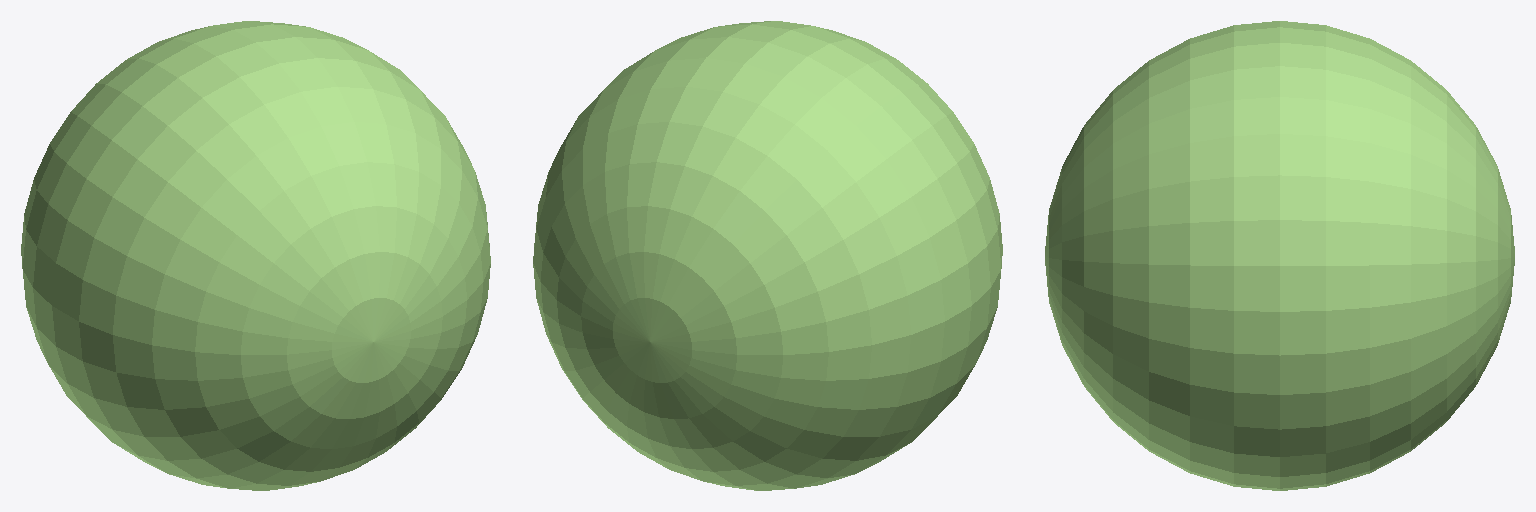
File: Baseball.obj
3 views of the same model, side by side, from view 1: azimuth 30°, elevation 25°; view 2: azimuth 150°, elevation 25°; view 3: azimuth 270°, elevation 25° (orthographic).
Parts seen in each view (by area): view 1: Sphere001; view 2: Sphere001; view 3: Sphere001.
Part boxes in pixels (left/top/right/bottom): Sphere001: left=21, top=21, right=490, bottom=490; Sphere001: left=533, top=21, right=1002, bottom=490; Sphere001: left=1045, top=21, right=1514, bottom=490.
Size of the model in its own units: 74.54 by 74.54 by 74.54.